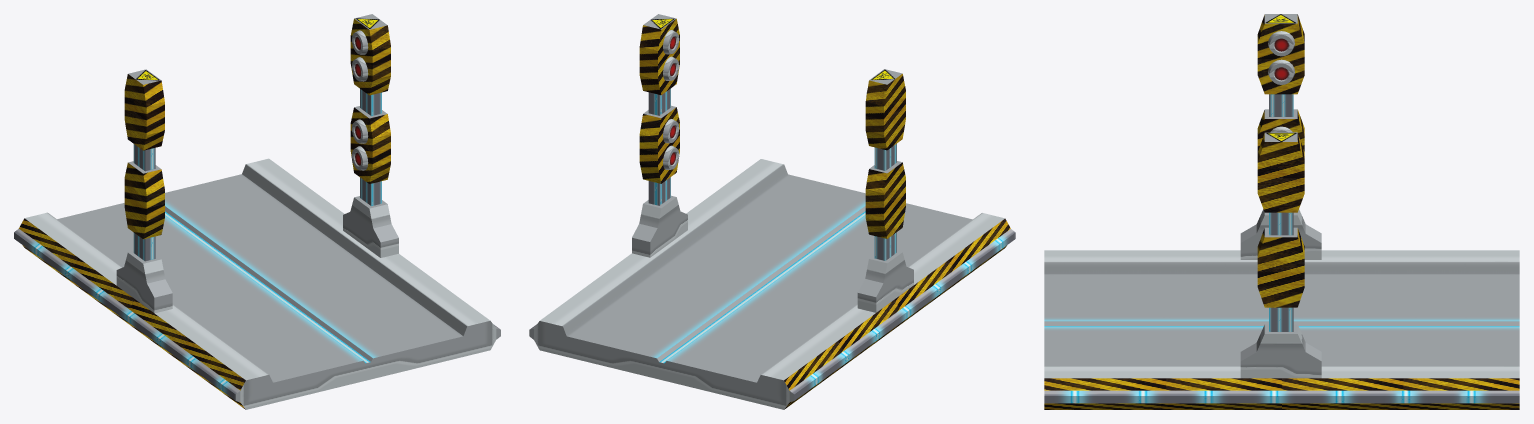
Rendered from Obstacle_4.fbx.
3 views of the same model, side by side, from view 1: azimuth 30°, elevation 25°; view 2: azimuth 150°, elevation 25°; view 3: azimuth 270°, elevation 25° (orthographic). The views are drawn at different scales.
Visible parts, largest first — view 1: Obstacle_4; view 2: Obstacle_4; view 3: Obstacle_4.
Boxes of the visible parts, x1,y1,x2,y2 form: Obstacle_4: [14, 14, 500, 409]; Obstacle_4: [529, 14, 1015, 409]; Obstacle_4: [1044, 14, 1519, 409].
Bounding box in the file's own units: 4.15 × 3.73 × 6.
2 materials, 2 textured.
